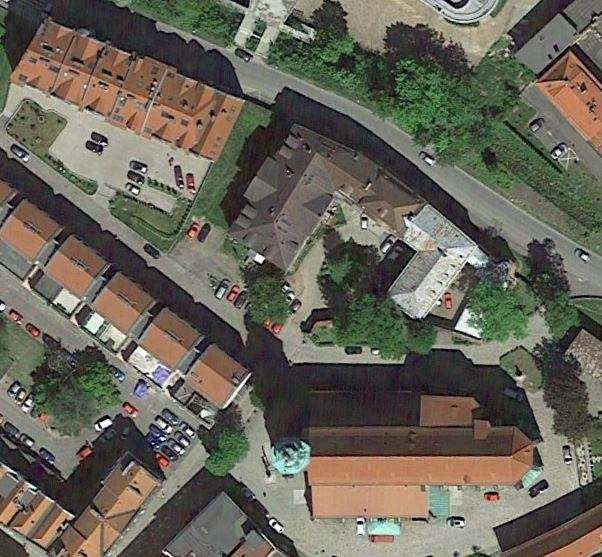block of flats: (1, 170, 255, 430), (222, 119, 497, 330), (5, 16, 247, 162), (1, 445, 166, 555), (529, 45, 602, 158)
church: (267, 379, 543, 544)
